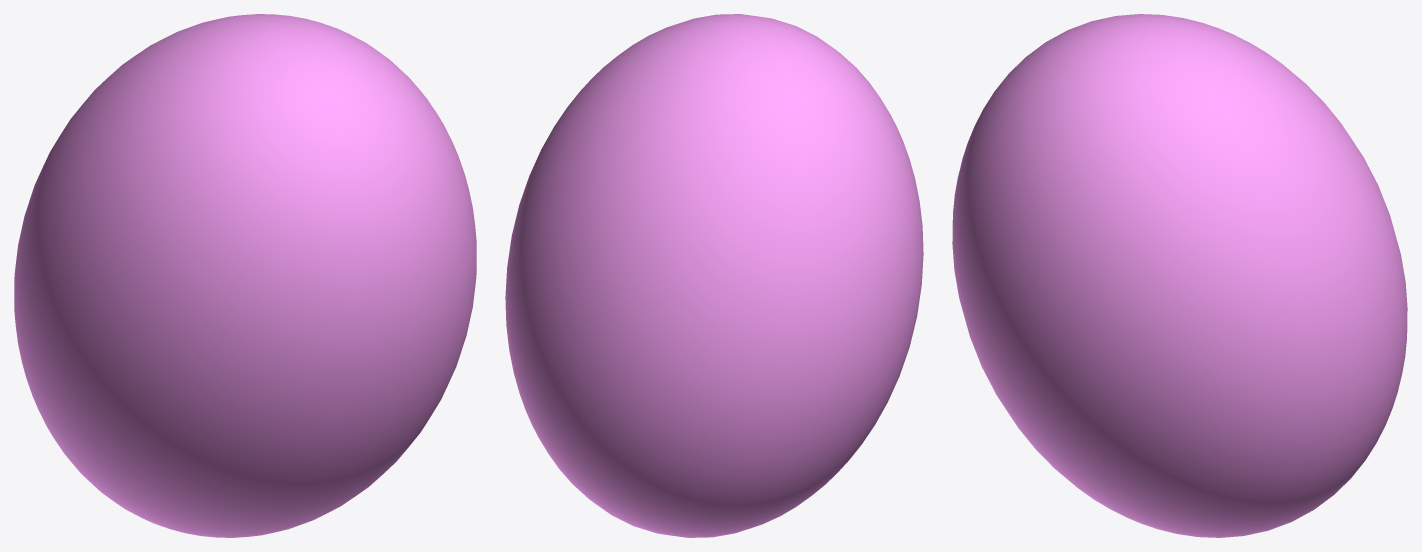
File: Egg.fbx
The picture shows the model from 3 angles, left to right: view 1: azimuth 30°, elevation 25°; view 2: azimuth 150°, elevation 25°; view 3: azimuth 270°, elevation 25°; orthographic projection. The views are drawn at different scales.
Visible parts, largest first — view 1: root; view 2: root; view 3: root.
Part boxes in pixels (box(x1,y1,x2,y2)): root: box(14, 14, 476, 537); root: box(505, 14, 923, 537); root: box(952, 14, 1407, 537).
Bounding box in the file's own units: 0.068 × 0.0843 × 0.071.
Materials: 1 (1 with a texture image).
